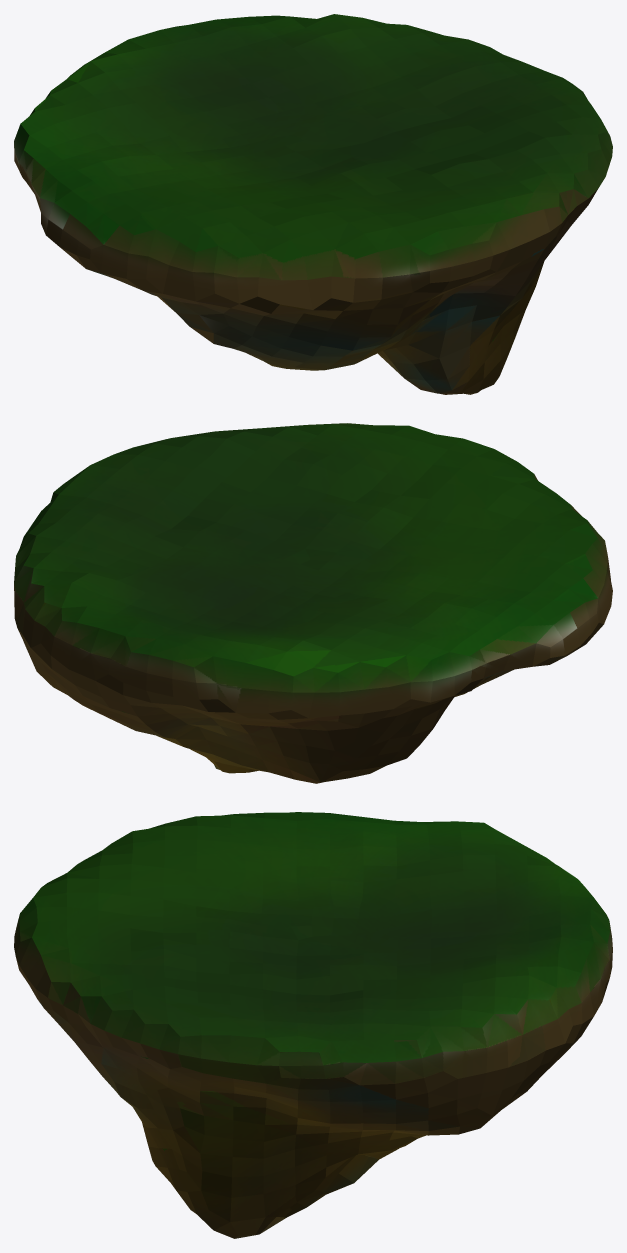
The model's file is templeempty.fbx.
3 views of the same model, one above another, from view 1: azimuth 30°, elevation 25°; view 2: azimuth 150°, elevation 25°; view 3: azimuth 270°, elevation 25° (orthographic).
Visible parts, largest first — view 1: Island; view 2: Island; view 3: Island.
Part boxes in pixels (x1,y1,x2,y2): Island: (14, 14, 612, 394); Island: (14, 423, 612, 783); Island: (14, 812, 612, 1238).
Size of the model in its own units: 897 by 444 by 902.
1 material, 1 textured.
